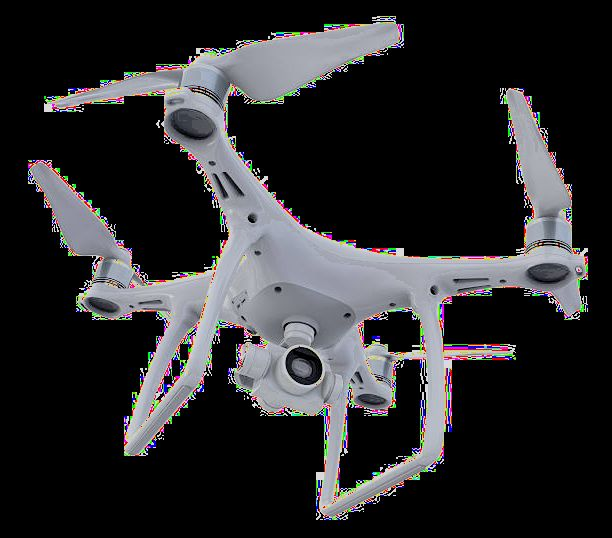Drone: (25, 16, 587, 528)
